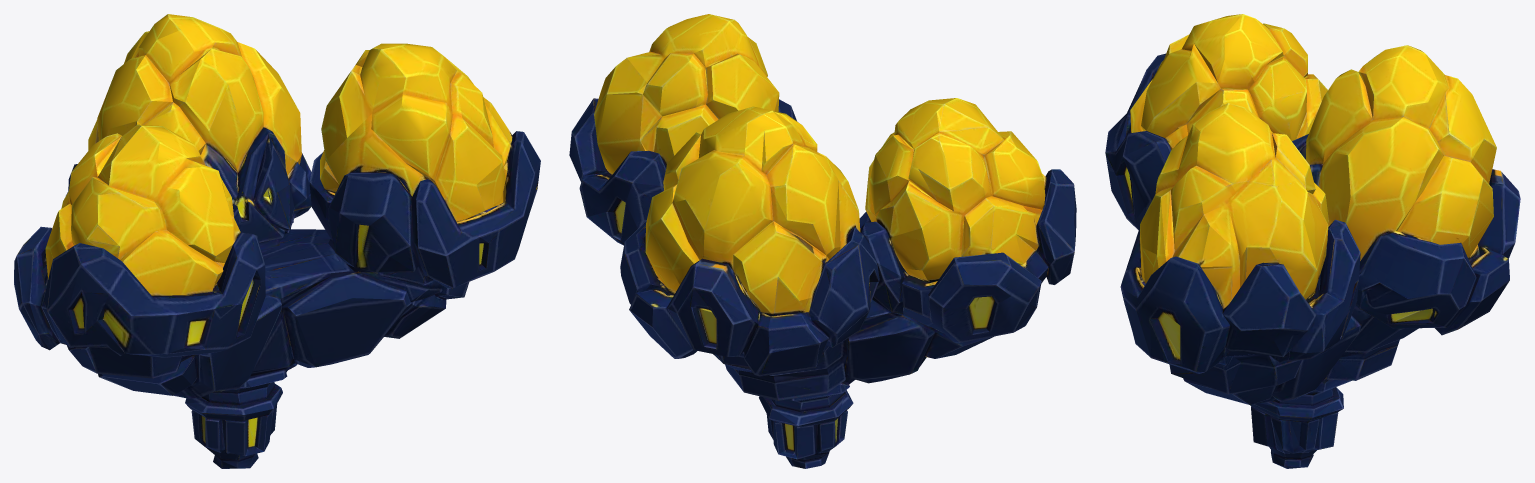
The picture shows the model from 3 angles, left to right: view 1: azimuth 30°, elevation 25°; view 2: azimuth 150°, elevation 25°; view 3: azimuth 270°, elevation 25°; orthographic projection. The views are drawn at different scales.
Parts seen in each view (by area): view 1: output_unwrapped; view 2: output_unwrapped; view 3: output_unwrapped.
Part boxes in pixels (x1,y1,x2,y2): output_unwrapped: (14, 14, 540, 468); output_unwrapped: (569, 14, 1076, 468); output_unwrapped: (1105, 14, 1520, 468).
Size of the model in its own units: 1.9 by 1.53 by 1.38.
1 material, 1 textured.
